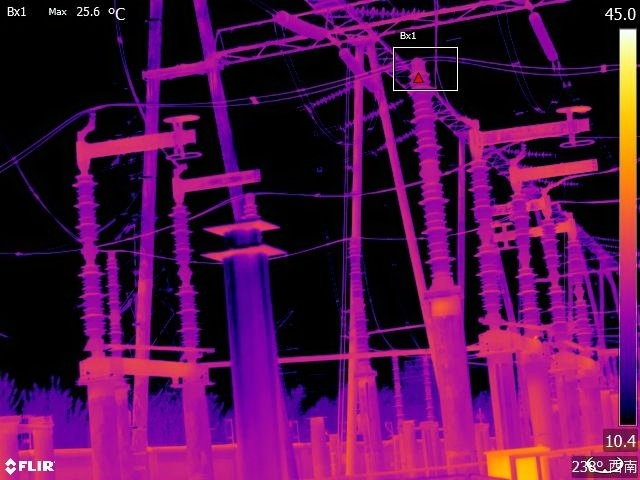insulator: (273, 8, 346, 49), (524, 5, 569, 63), (343, 102, 404, 131), (347, 4, 428, 23), (307, 81, 356, 111), (374, 131, 414, 153)
post insulator: (411, 62, 454, 283), (70, 168, 110, 358), (169, 199, 203, 356), (471, 158, 502, 319), (510, 190, 541, 330), (540, 211, 567, 325), (563, 231, 592, 334)
switch: (465, 92, 598, 162), (76, 111, 211, 173), (168, 155, 266, 208), (504, 158, 604, 196)
